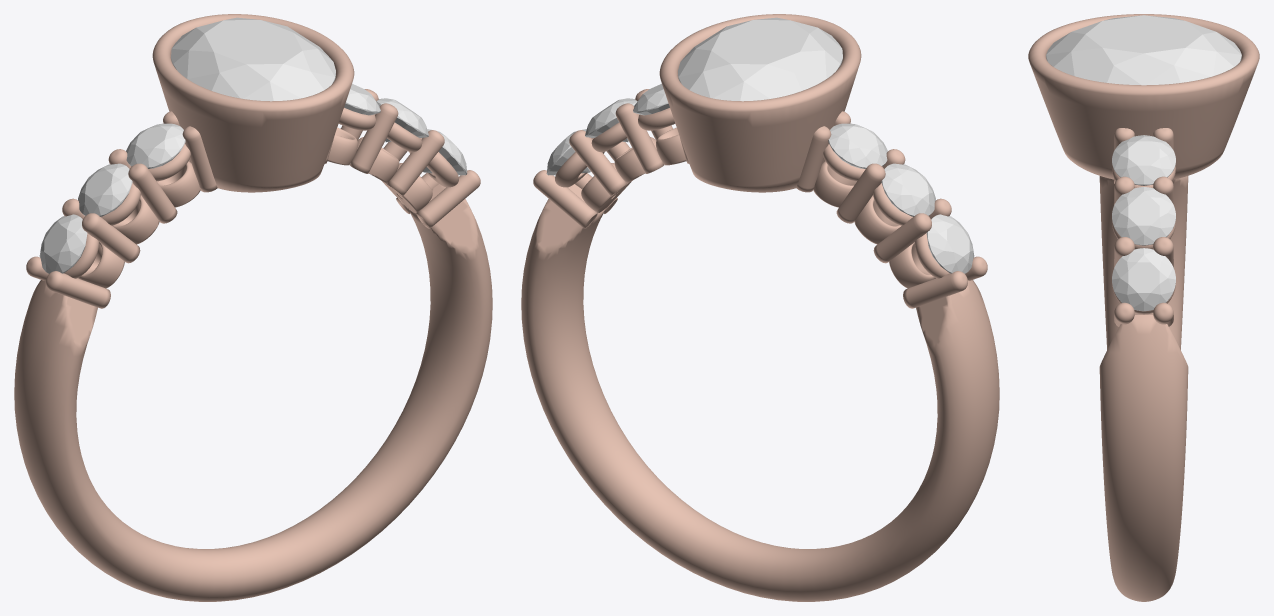
File: diamond-oval-rosegold-bezelset-taperedband-7stone.glb
3 views of the same model, side by side, from view 1: azimuth 30°, elevation 25°; view 2: azimuth 150°, elevation 25°; view 3: azimuth 270°, elevation 25° (orthographic).
Parts seen in each view (by area): view 1: metal, stone.002, side.018, side.019, side.020, side.022, side.023, side.021; view 2: metal, stone.002, side.018, side.019, side.020, side.022, side.023, side.021; view 3: metal, stone.002, side.021, side.022, side.023.
Boxes of the visible parts, x1,y1,x2,y2 form: metal: (14,14,492,601); stone.002: (171,17,335,101); side.018: (39,214,87,273); side.019: (78,163,132,216); side.020: (126,123,185,168); side.022: (376,98,428,142); side.023: (340,83,380,124); side.021: (422,129,467,175); metal: (521,14,999,601); stone.002: (678,17,842,101); side.018: (926,214,974,273); side.019: (881,163,935,216); side.020: (828,123,887,168); side.022: (585,98,637,142); side.023: (633,83,673,124); side.021: (546,129,591,175); metal: (1028,14,1259,601); stone.002: (1046,15,1241,85); side.021: (1112,248,1175,311); side.022: (1112,187,1175,245); side.023: (1112,135,1175,185).
Size of the model in its own units: 20.48 by 23.4 by 9.04.
